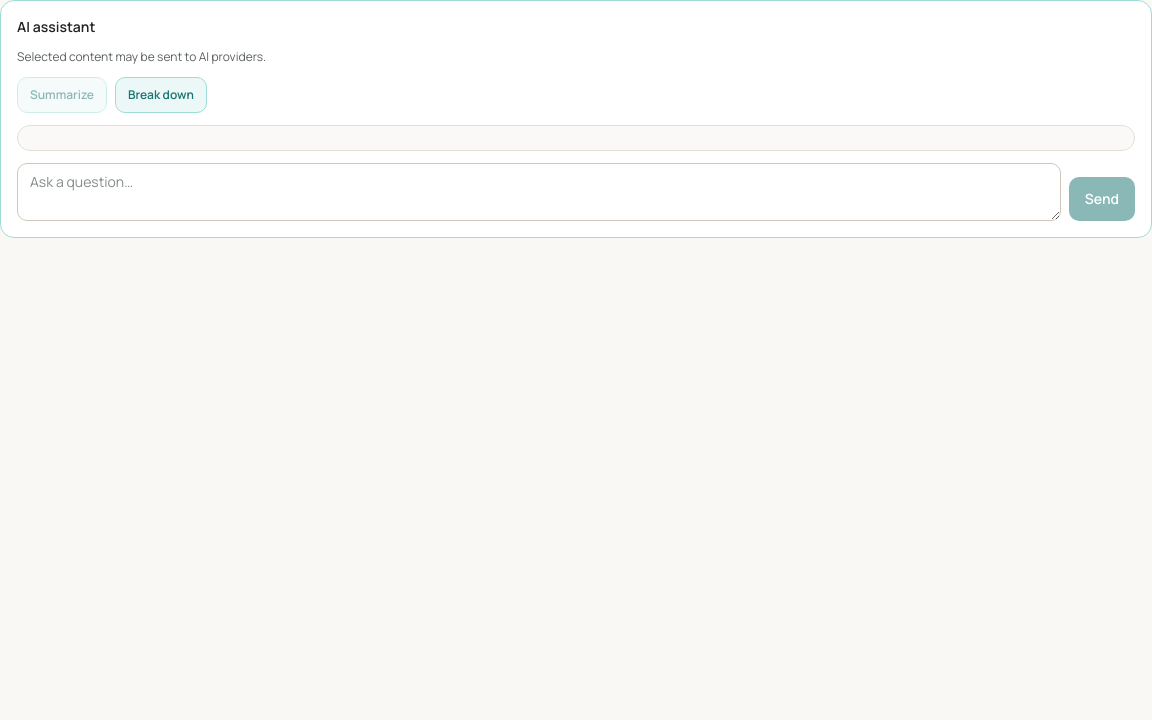
Test: BreakdownDialog › FR-AI-09: keeps the preview intact when the explicit confirmation request fails
This screenshot has width=1152, height=720.
Click the button with aria-label "Break down a project" at coordinates (161, 95), box [115,77,207,113]
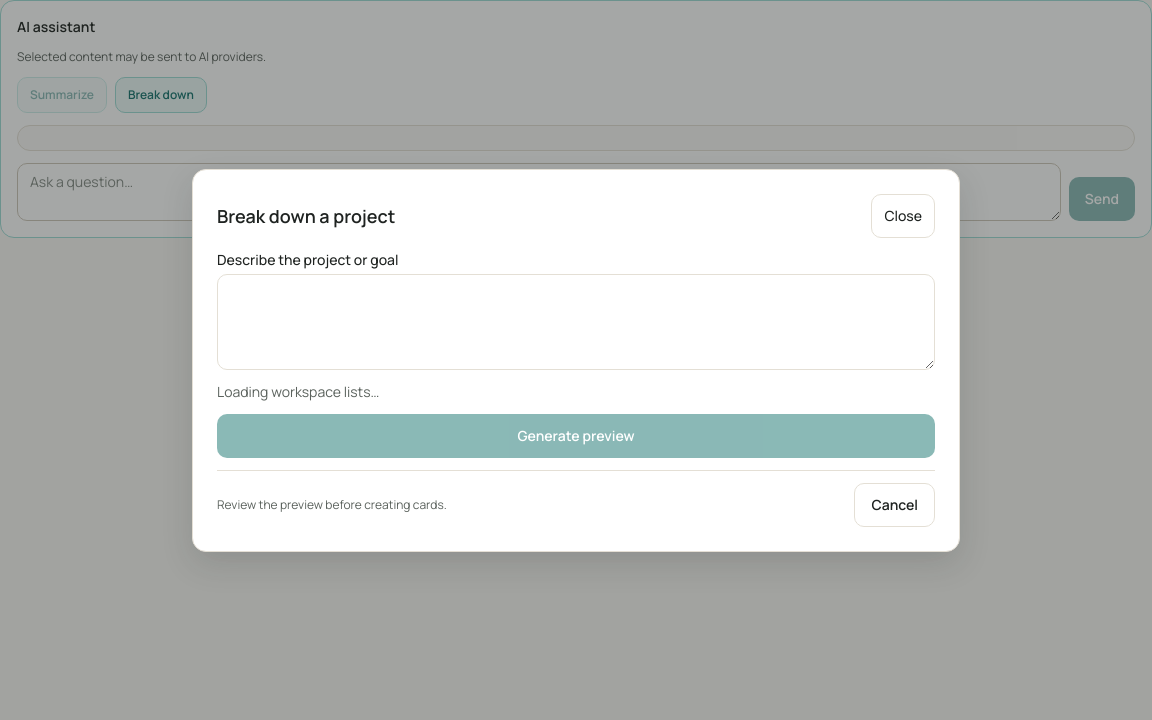
Type "Build a study app" into the text box labelled "Describe the project or goal" at coordinates (576, 322), box [217,274,935,370]
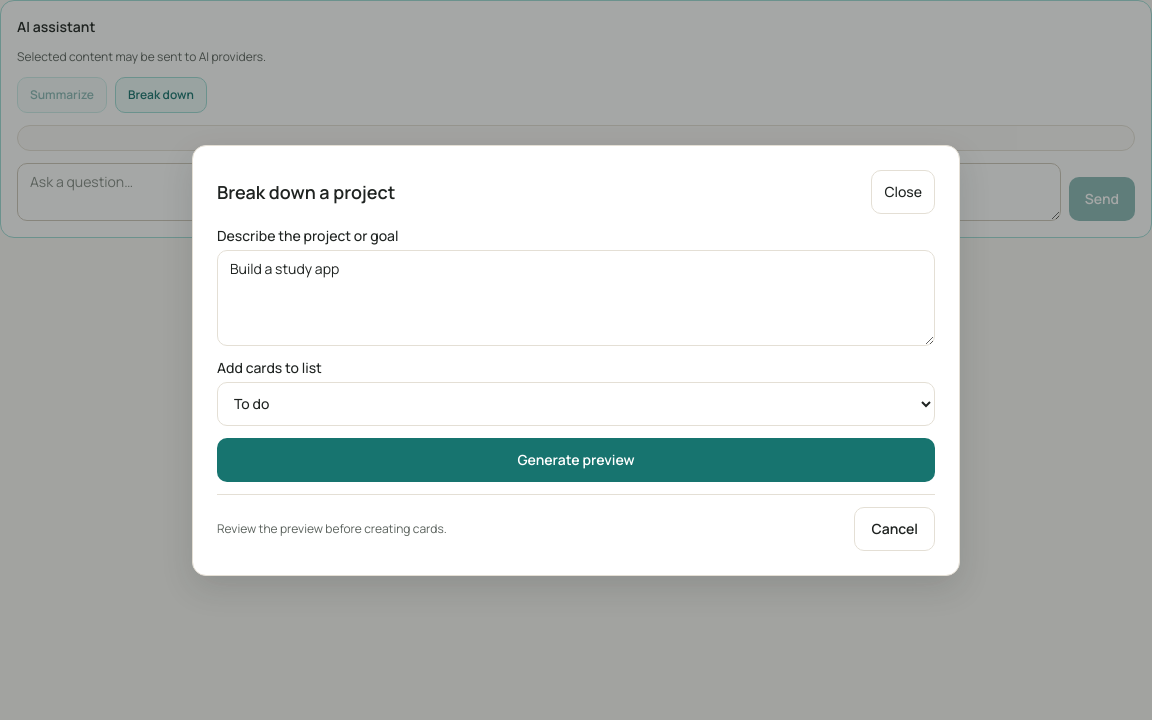
Expected: the button "Generate preview" is enabled
Click the button "Generate preview" at coordinates (576, 460), box [217,438,935,482]
(page scrolled)
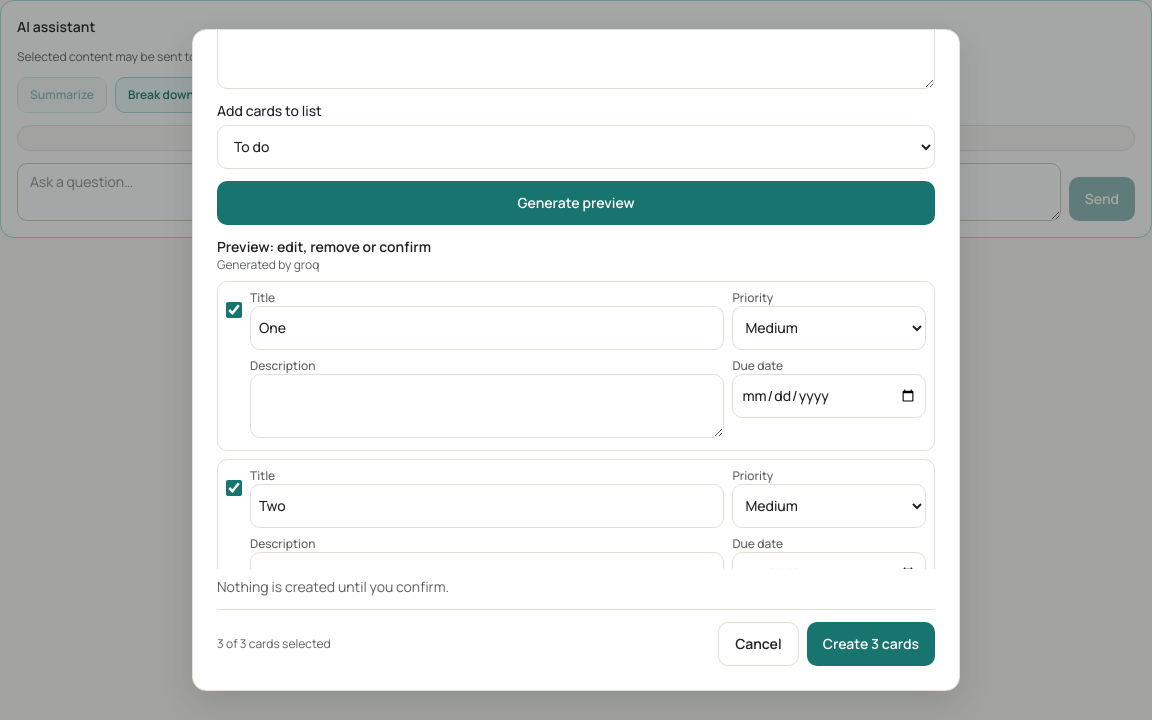
Expected: the element named "Breakdown preview" is shown, [217,237,935,597]
Click the button "Create 3 cards" at coordinates (871, 644), box [807,622,935,666]
(page scrolled)
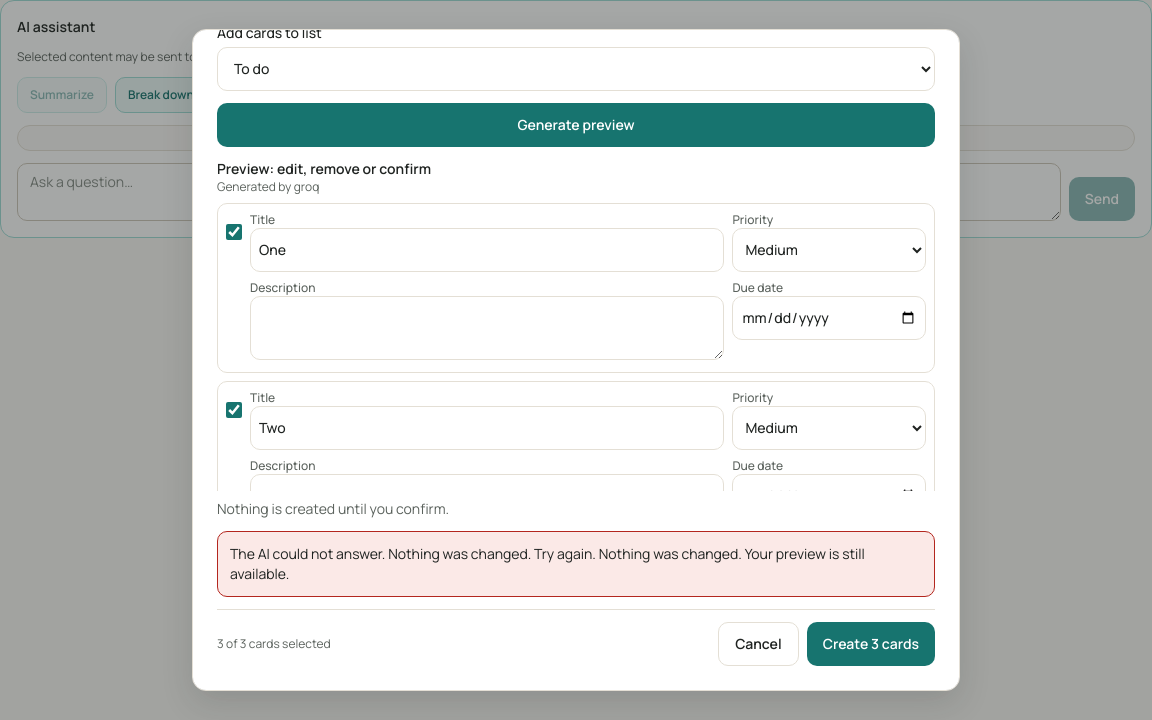
Expected: the element named "Breakdown preview" is shown, [217,159,935,519]
Expected: the button "Create 3 cards" is enabled, [807,622,935,666]
Expected: the text "Your preview is still available" is shown, [230,544,865,583]
